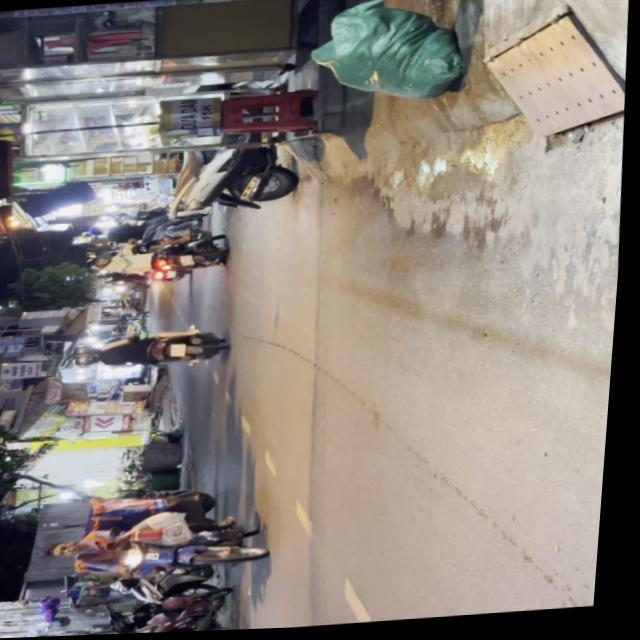licenseplate: (50, 508, 278, 586)
motorcyclist: (54, 543, 88, 560)
